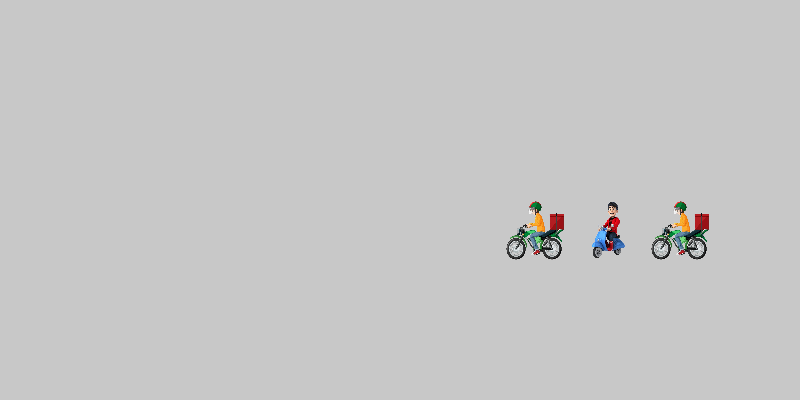helmet: (505, 200, 565, 260), (650, 200, 710, 260)
no_helmet: (580, 200, 640, 260)
